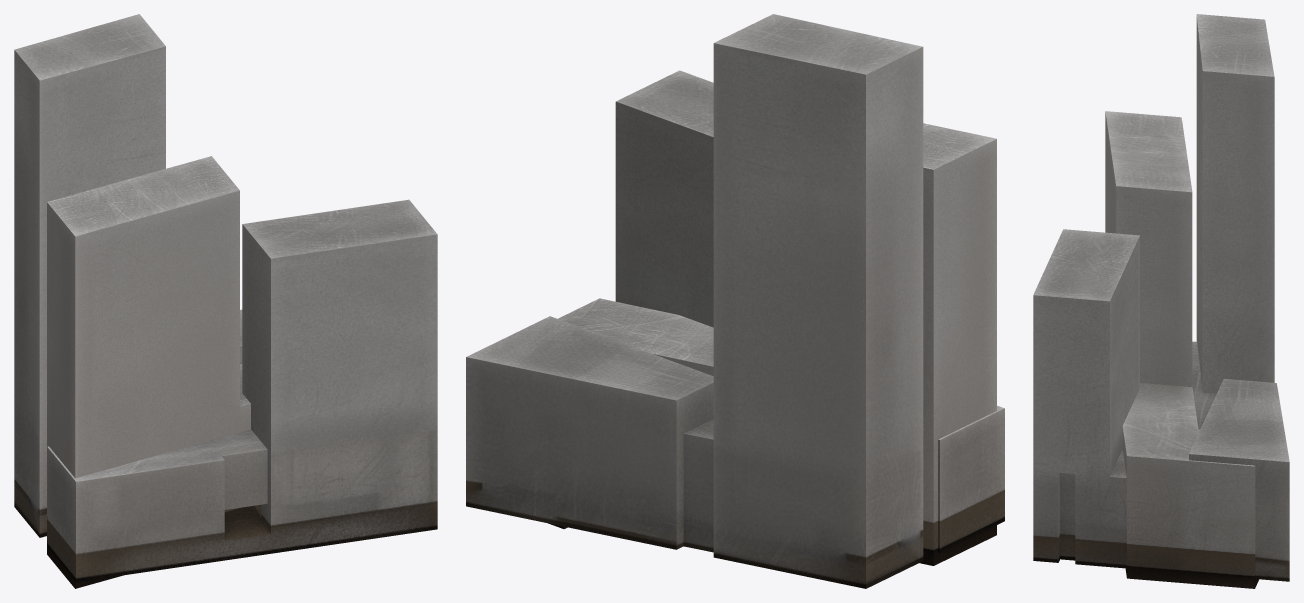
The model's file is BThenA.DAE.
3 renders of one model, left to right at view 1: azimuth 30°, elevation 25°; view 2: azimuth 150°, elevation 25°; view 3: azimuth 270°, elevation 25°, orthographic. The views are drawn at different scales.
Visible parts, largest first — view 1: Playground01AMax, Playground02AMax001; view 2: Playground01AMax, Playground02AMax001; view 3: Playground01AMax, Playground02AMax001.
Part boxes in pixels (x1=…): Playground01AMax: x1=14, y1=14, x2=437, y2=582; Playground02AMax001: x1=47, y1=156, x2=250, y2=588; Playground01AMax: x1=466, y1=14, x2=1004, y2=588; Playground02AMax001: x1=548, y1=123, x2=996, y2=565; Playground01AMax: x1=1033, y1=14, x2=1289, y2=581; Playground02AMax001: x1=1105, y1=111, x2=1258, y2=588.
Size of the model in its own units: 4328 by 5187 by 2863.
Materials: 2 (2 with a texture image).
